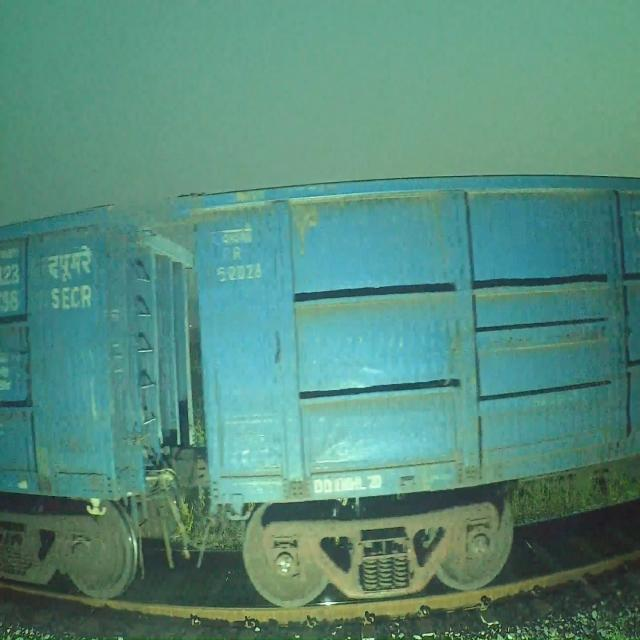WAgon-uic: (163, 166, 640, 613), (0, 197, 198, 604)
uic: (0, 258, 25, 322)
